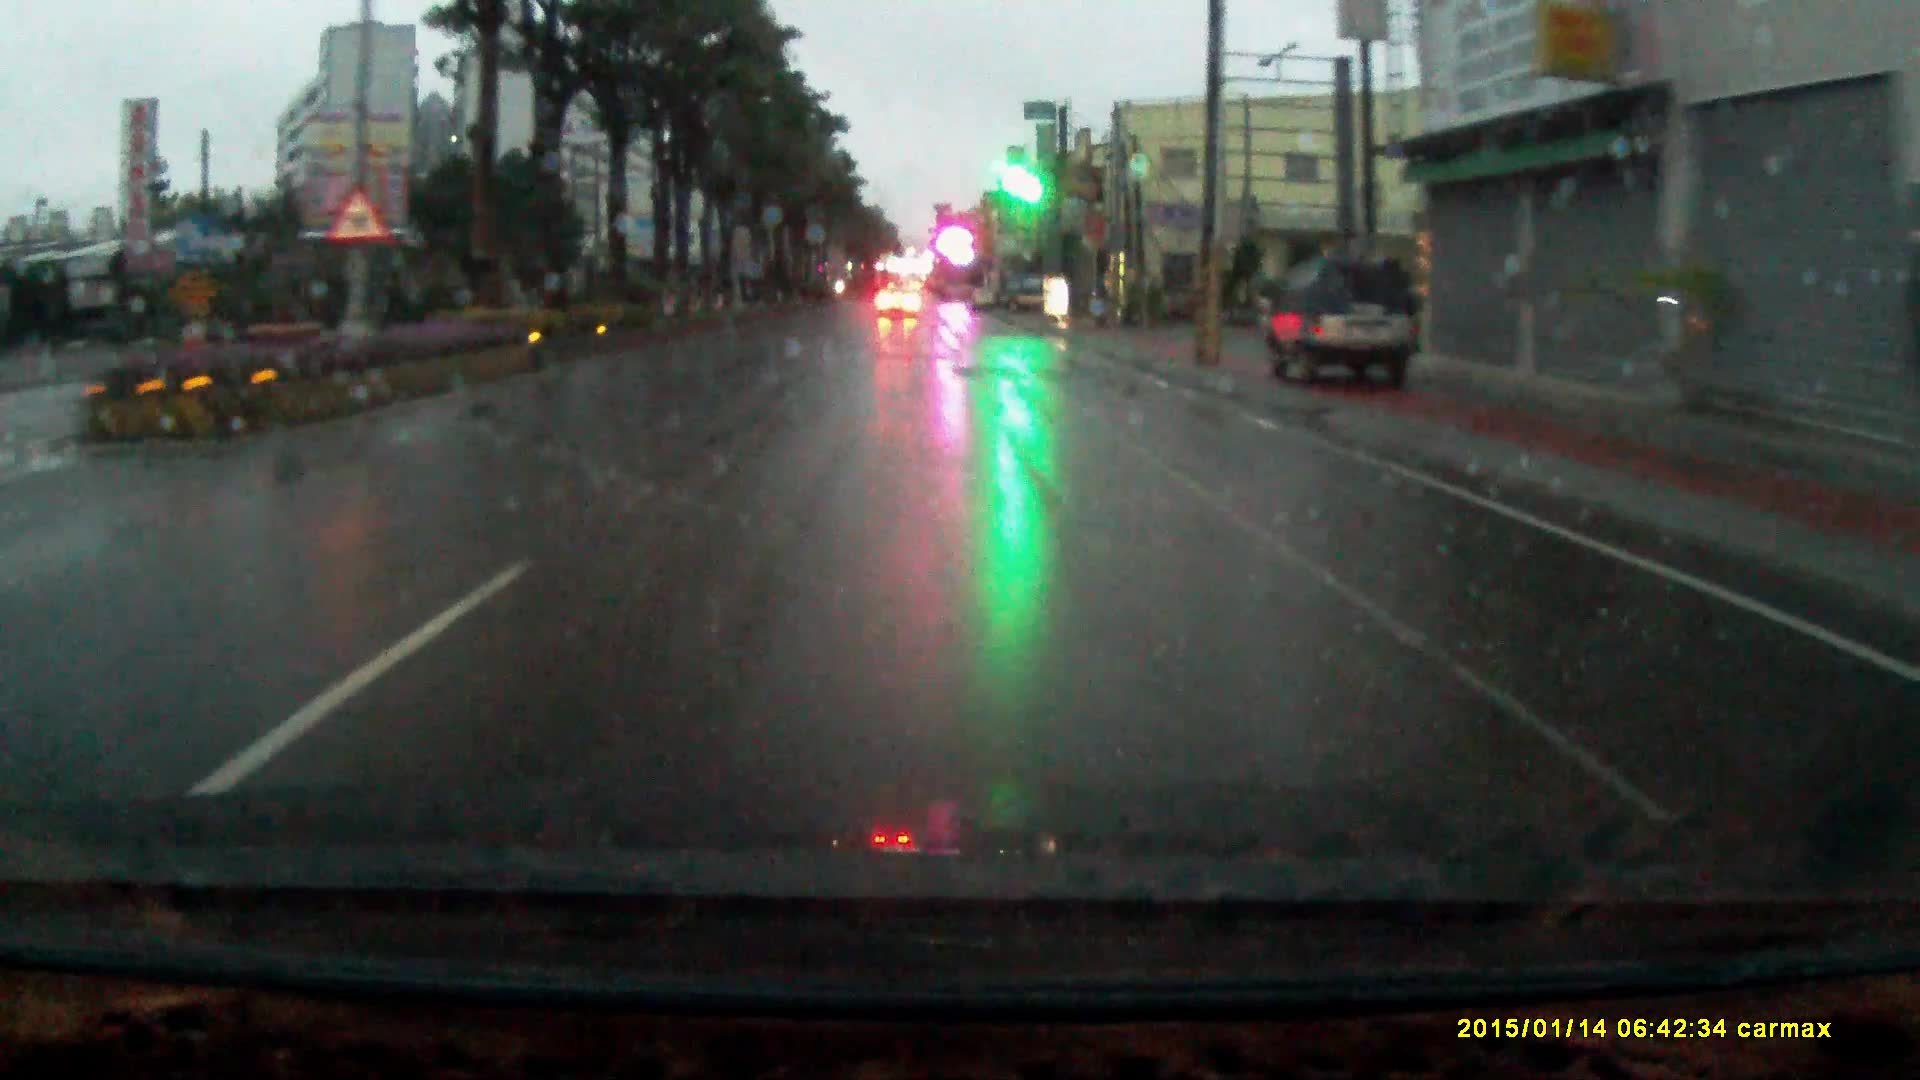vehicle: (1261, 272, 1427, 404), (876, 290, 920, 327)
